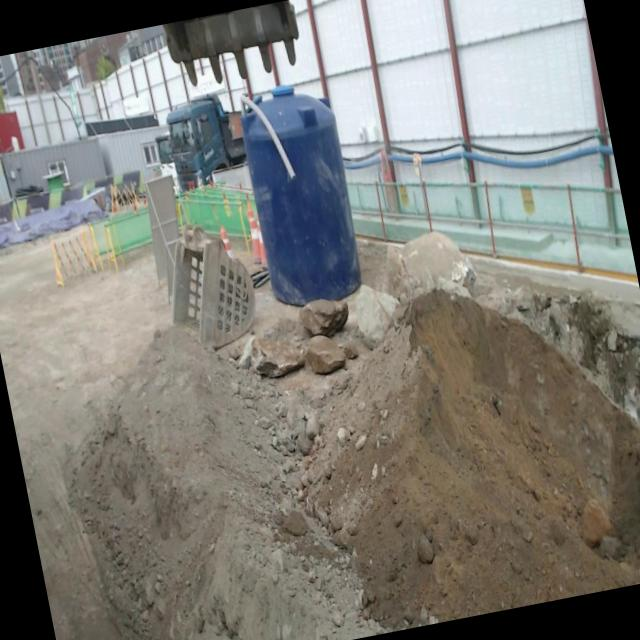red-sand: (297, 290, 640, 627)
stone: (387, 231, 475, 296), (356, 285, 399, 341), (252, 336, 305, 378), (300, 300, 349, 336), (305, 335, 347, 374)
white-sand: (66, 331, 396, 640), (0, 240, 170, 640)
